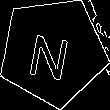N_N: (28, 23, 77, 80)
